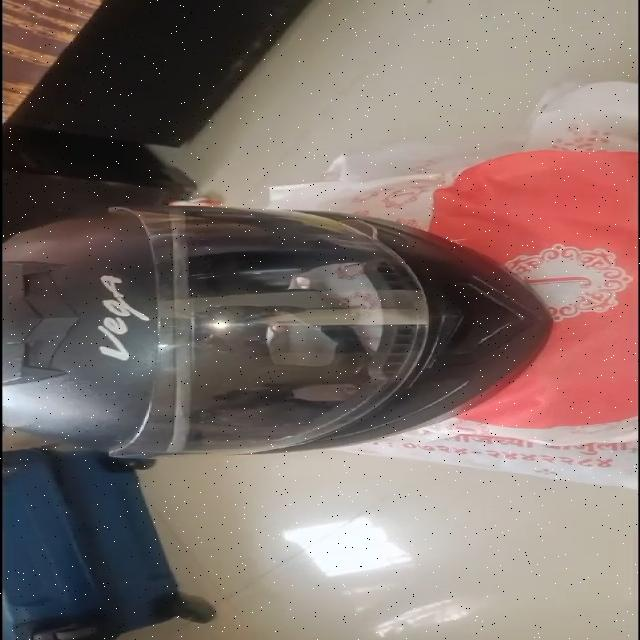Helmet: (3, 204, 556, 461)
